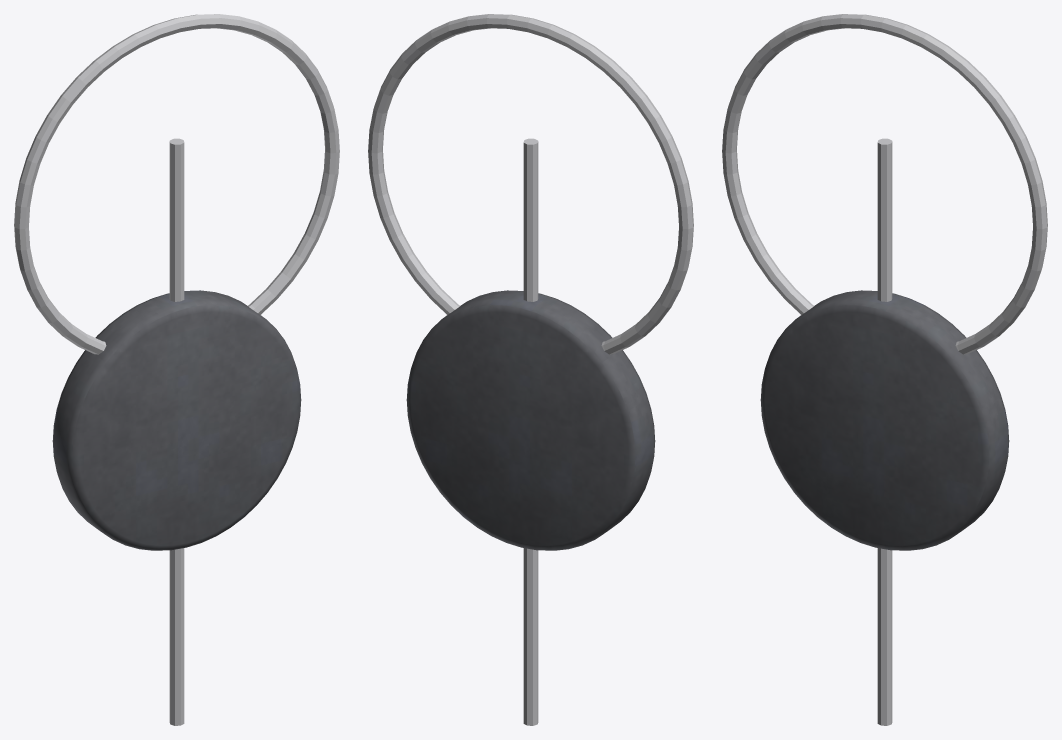
3 renders of one model, left to right at view 1: azimuth 30°, elevation 25°; view 2: azimuth 150°, elevation 25°; view 3: azimuth 330°, elevation 25°, orthographic.
Parts seen in each view (by area): view 1: plombe, drahtring, draht; view 2: plombe, drahtring, draht; view 3: plombe, drahtring, draht.
Boxes of the visible parts, x1,y1,x2,y2 form: plombe: (52,290,301,550); drahtring: (14,14,339,354); draht: (169,138,184,725); plombe: (406,290,655,550); drahtring: (368,14,693,354); draht: (523,138,538,725); plombe: (760,290,1009,550); drahtring: (722,14,1047,354); draht: (877,138,892,725).
Size of the model in its own units: 0.0292 by 0.0606 by 0.0035.
Materials: 3 (1 with a texture image).
